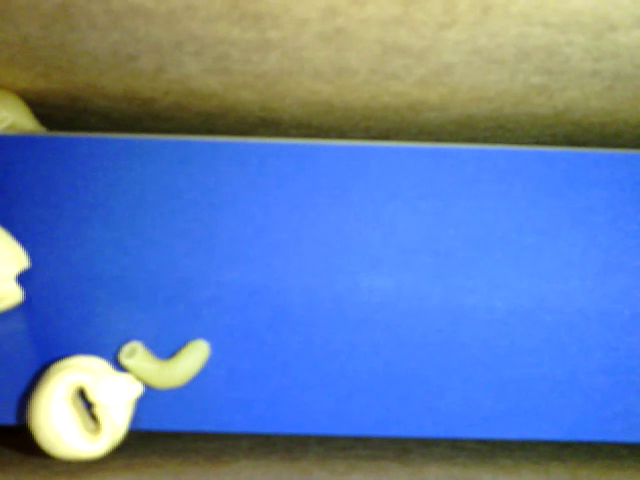elbow: (117, 332, 215, 390)
shell: (1, 83, 54, 133)
tortellini: (20, 349, 146, 465), (1, 221, 37, 313)
